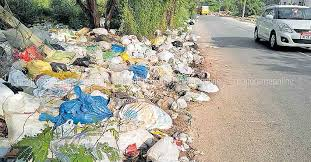garbage: (1, 25, 196, 162)
